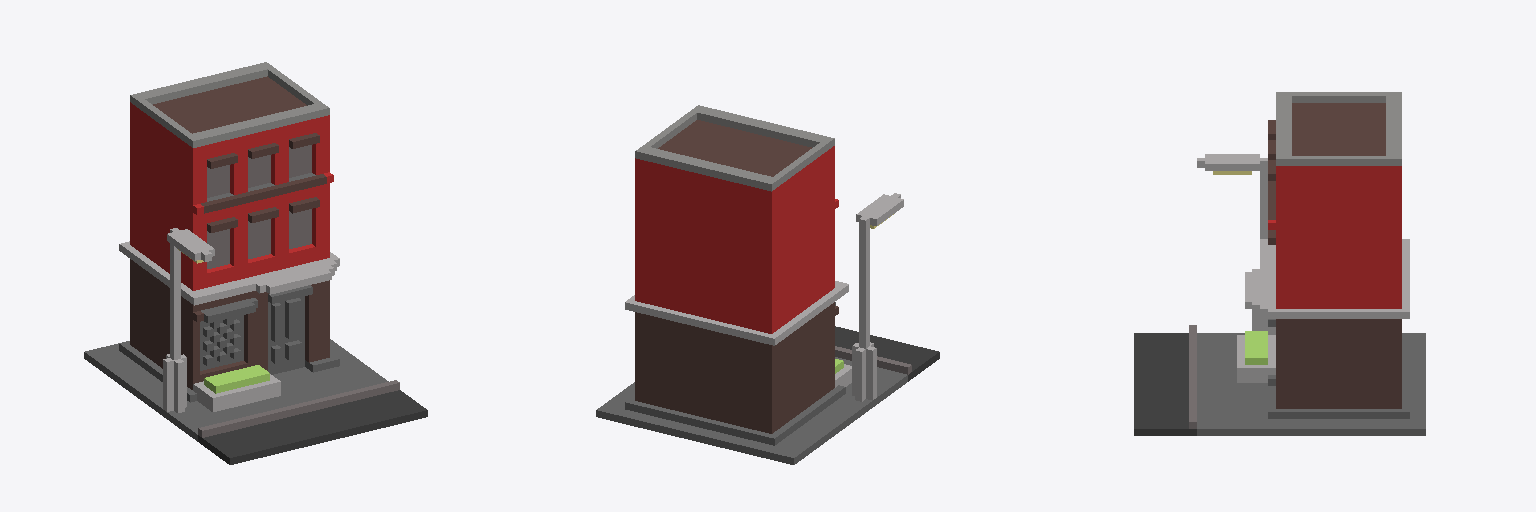
3 renders of one model, left to right at view 1: azimuth 30°, elevation 25°; view 2: azimuth 150°, elevation 25°; view 3: azimuth 270°, elevation 25°, orthographic.
Parts seen in each view (by area): view 1: object 1; view 2: object 1; view 3: object 1.
Part boxes in pixels (left/top/right/bottom): object 1: left=84, top=62, right=427, bottom=464; object 1: left=596, top=105, right=939, bottom=464; object 1: left=1134, top=92, right=1425, bottom=435.
Bounding box in the file's own units: 2.9 × 3.7 × 3.7.
Materials: 1 (1 with a texture image).